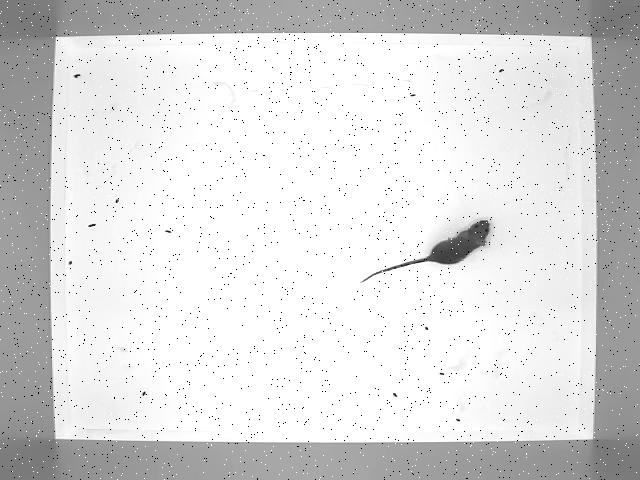Tikus: (362, 219, 492, 281)
